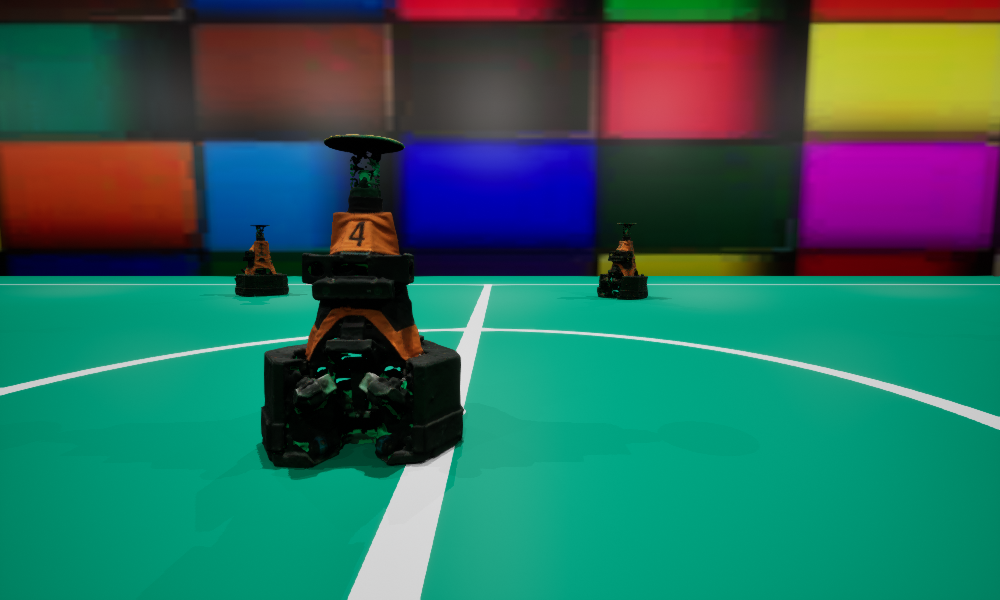0 orange robot TechUnited: (261, 134, 463, 467), (234, 225, 288, 295), (597, 223, 647, 298)
